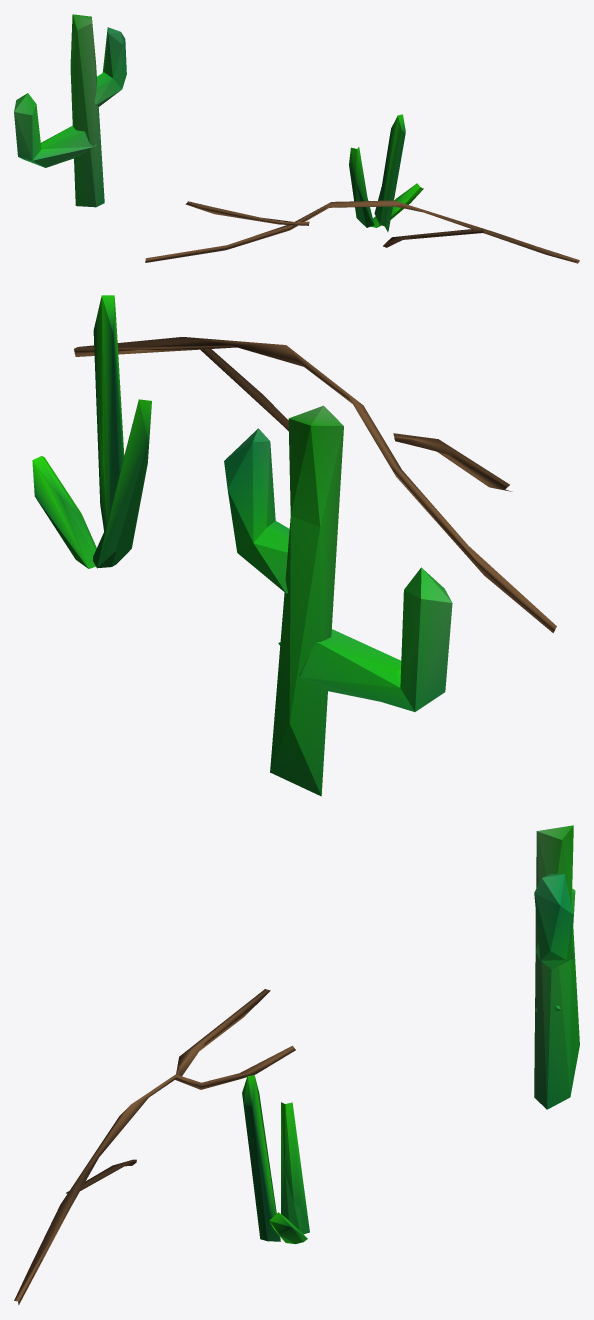
Rendered from plants.glb.
3 views of the same model, one above another, from view 1: azimuth 30°, elevation 25°; view 2: azimuth 150°, elevation 25°; view 3: azimuth 270°, elevation 25° (orthographic). The views are drawn at different scales.
Visible parts, largest first — view 1: BezierCurve.001, BezierCurve.003, BezierCurve.002; view 2: BezierCurve.001, BezierCurve.002, BezierCurve.003; view 3: BezierCurve.001, BezierCurve.002, BezierCurve.003.
Boxes of the visible parts, <box> form: BezierCurve.001: <box>14,14,126,207</box>; BezierCurve.003: <box>145,200,579,263</box>; BezierCurve.002: <box>349,114,423,231</box>; BezierCurve.001: <box>224,405,452,796</box>; BezierCurve.002: <box>32,295,151,568</box>; BezierCurve.003: <box>74,337,556,633</box>; BezierCurve.001: <box>534,825,579,1109</box>; BezierCurve.002: <box>242,1074,309,1244</box>; BezierCurve.003: <box>14,989,295,1304</box>.
Size of the model in its own units: 3.32 by 1.61 by 3.01.
